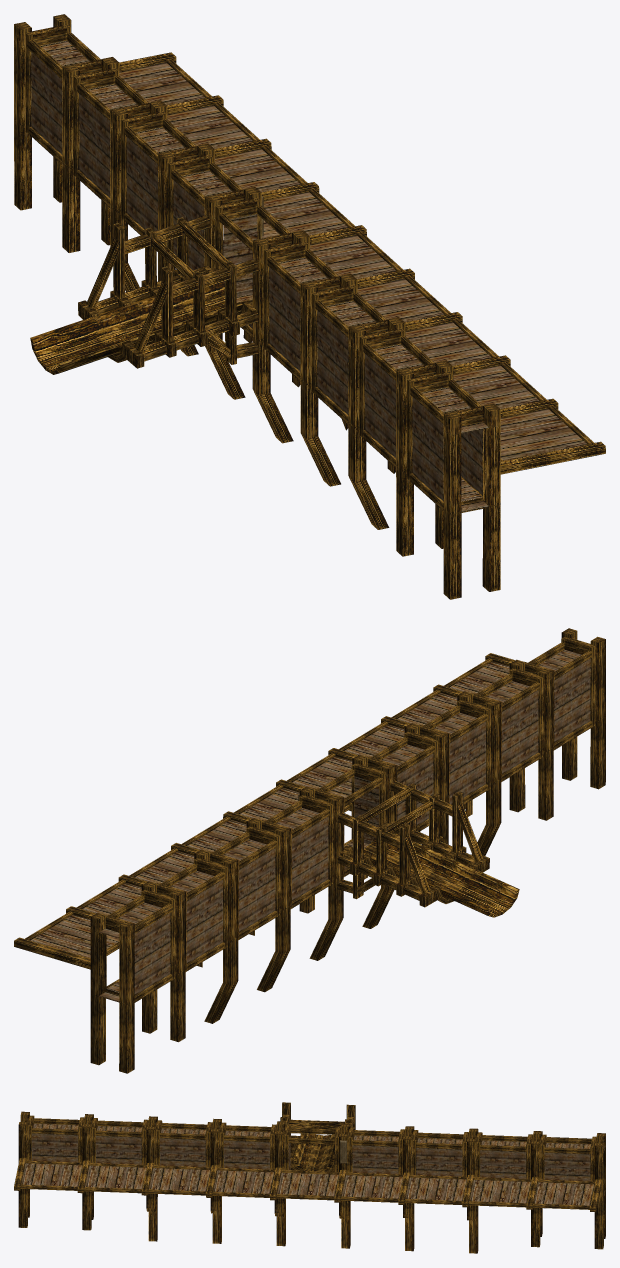
Rendered from RM_PLAYSURFACE_FINAL_RM_LARGE_SLUCE.fbx.
3 views of the same model, one above another, from view 1: azimuth 30°, elevation 25°; view 2: azimuth 150°, elevation 25°; view 3: azimuth 270°, elevation 25° (orthographic). The views are drawn at different scales.
Parts seen in each view (by area): view 1: RM_PLAYSURFACE_FINAL_RM_LARGE_SLUCE; view 2: RM_PLAYSURFACE_FINAL_RM_LARGE_SLUCE; view 3: RM_PLAYSURFACE_FINAL_RM_LARGE_SLUCE.
Part boxes in pixels (box(x1,y1,x2,y2)): RM_PLAYSURFACE_FINAL_RM_LARGE_SLUCE: box(14, 14, 605, 599); RM_PLAYSURFACE_FINAL_RM_LARGE_SLUCE: box(14, 628, 605, 1073); RM_PLAYSURFACE_FINAL_RM_LARGE_SLUCE: box(14, 1102, 605, 1253).
Bounding box in the file's own units: 88900 × 46828 × 217838.
3 materials, 3 textured.
